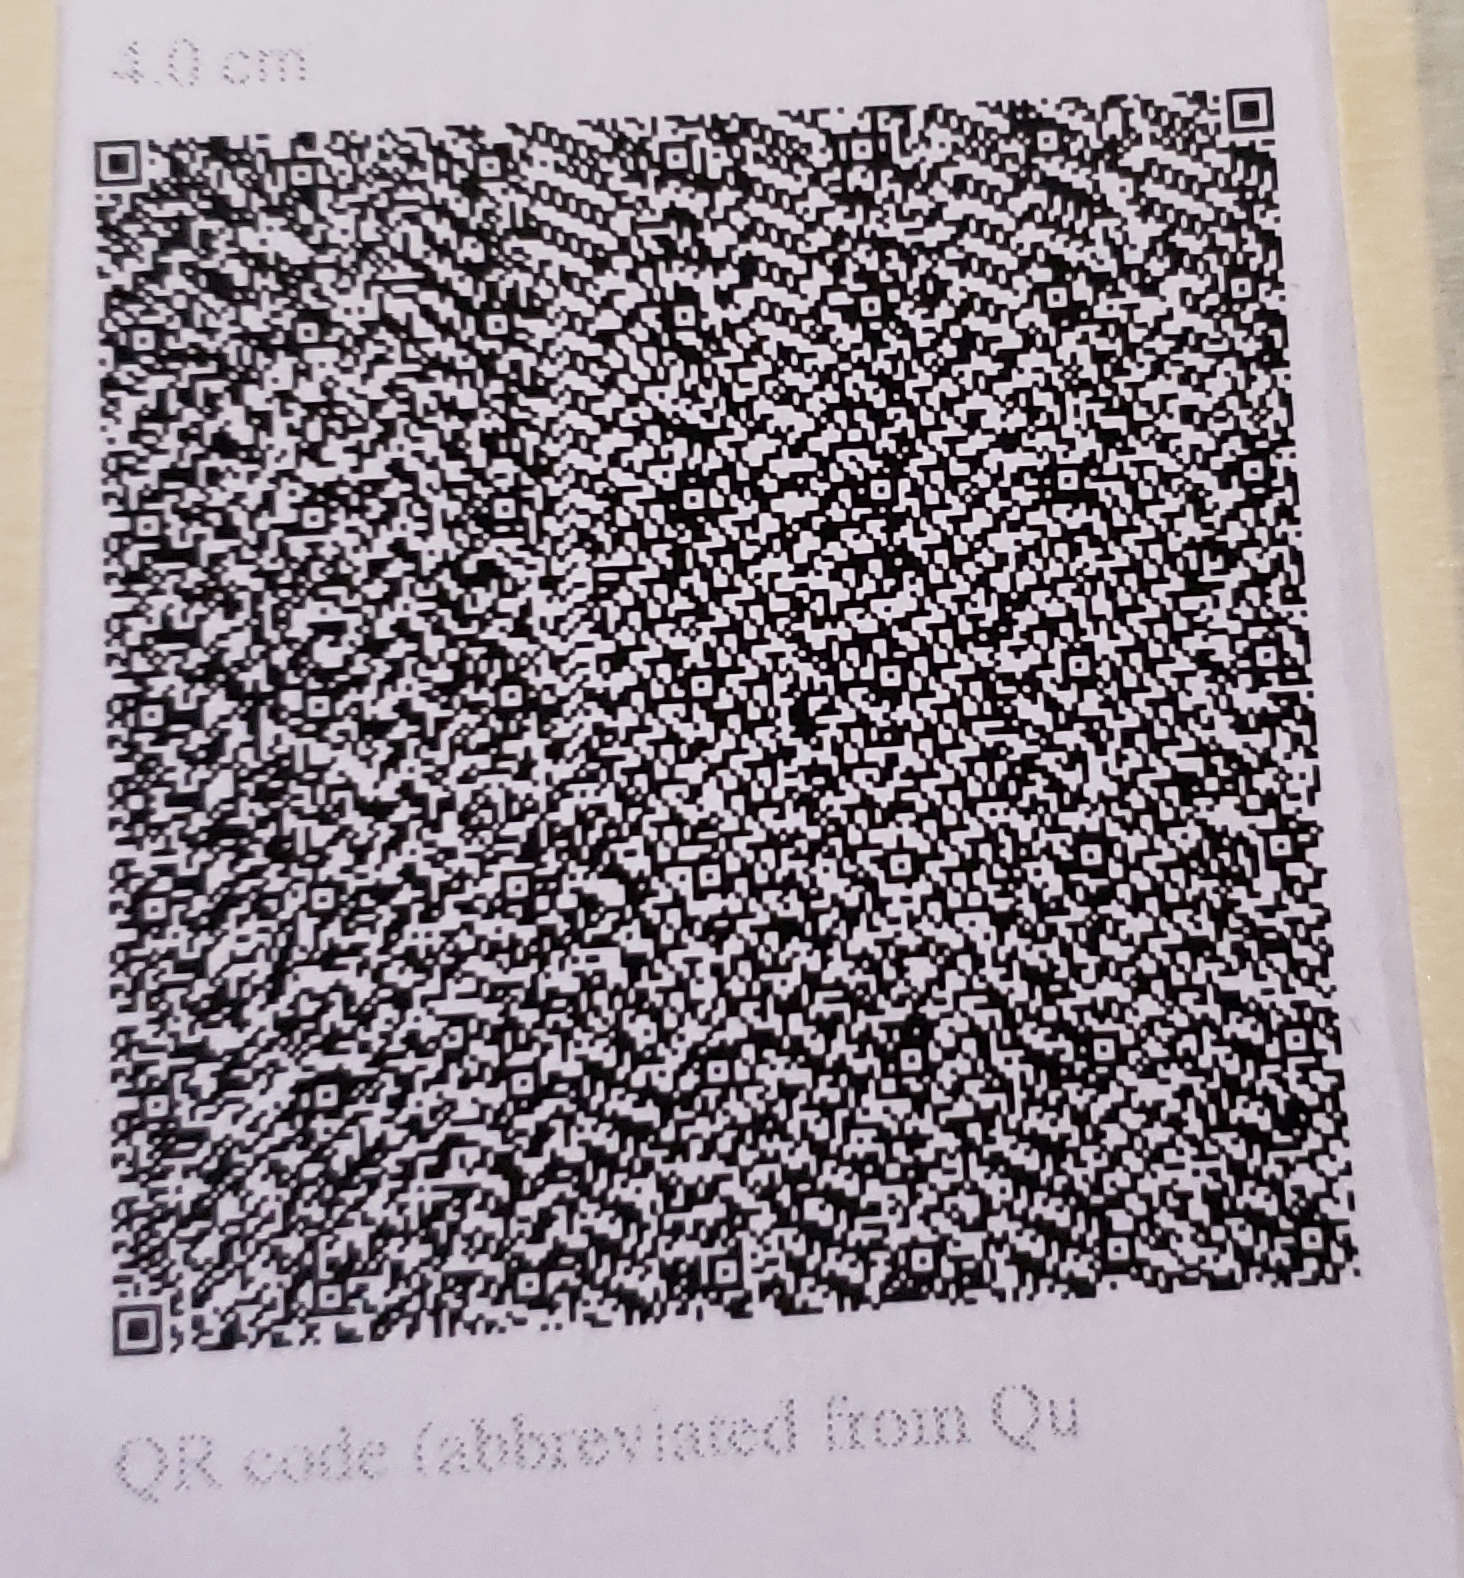QR_CODE: (48, 44, 1397, 1434)
